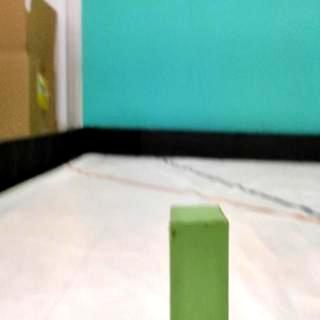greenbox: (168, 201, 232, 320)
